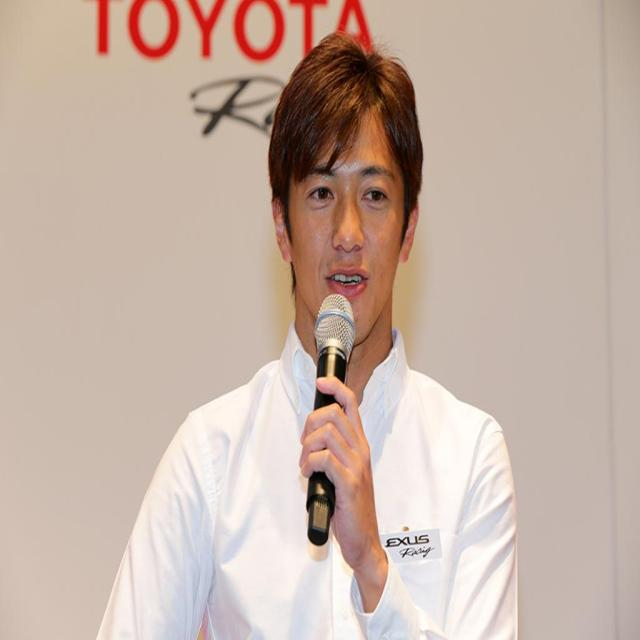Face: (293, 110, 407, 353)
